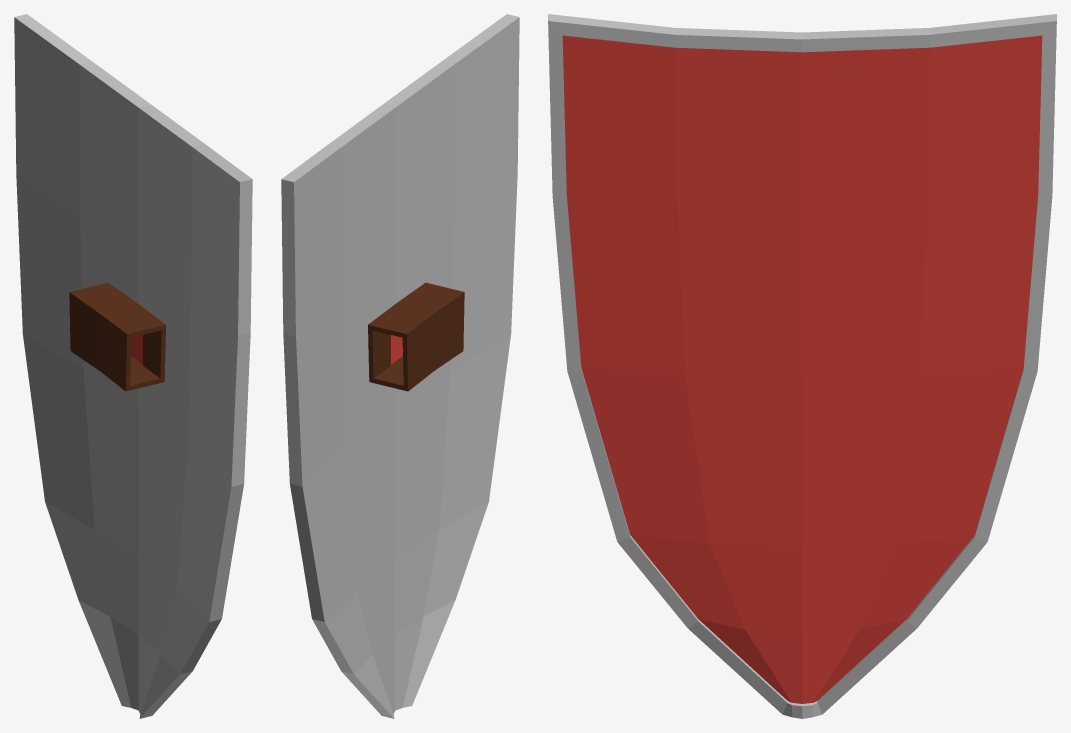
The model's file is basic_shild.fbx.
The picture shows the model from 3 angles, left to right: view 1: azimuth 30°, elevation 25°; view 2: azimuth 150°, elevation 25°; view 3: azimuth 270°, elevation 25°; orthographic projection. The views are drawn at different scales.
Visible parts, largest first — view 1: Cube; view 2: Cube; view 3: Cube.
Part boxes in pixels (x1,y1,x2,y2): Cube: [14, 14, 252, 718]; Cube: [281, 14, 519, 718]; Cube: [548, 14, 1056, 718].
Bounding box in the file's own units: 18.48 × 203 × 135.
